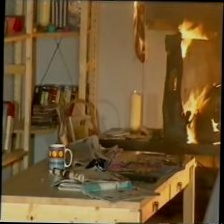fire: (166, 4, 222, 141)
